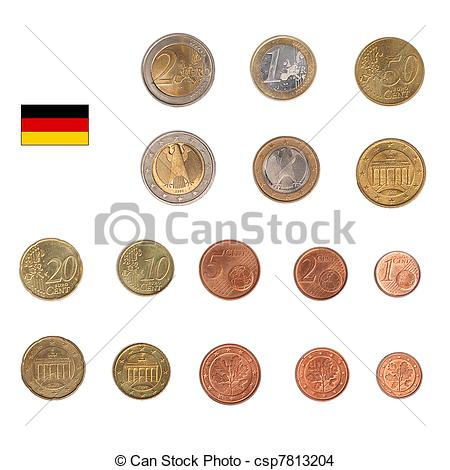euro_1: (248, 134, 325, 202), (250, 33, 319, 99)
euro_2: (138, 128, 220, 208), (141, 28, 219, 111)
